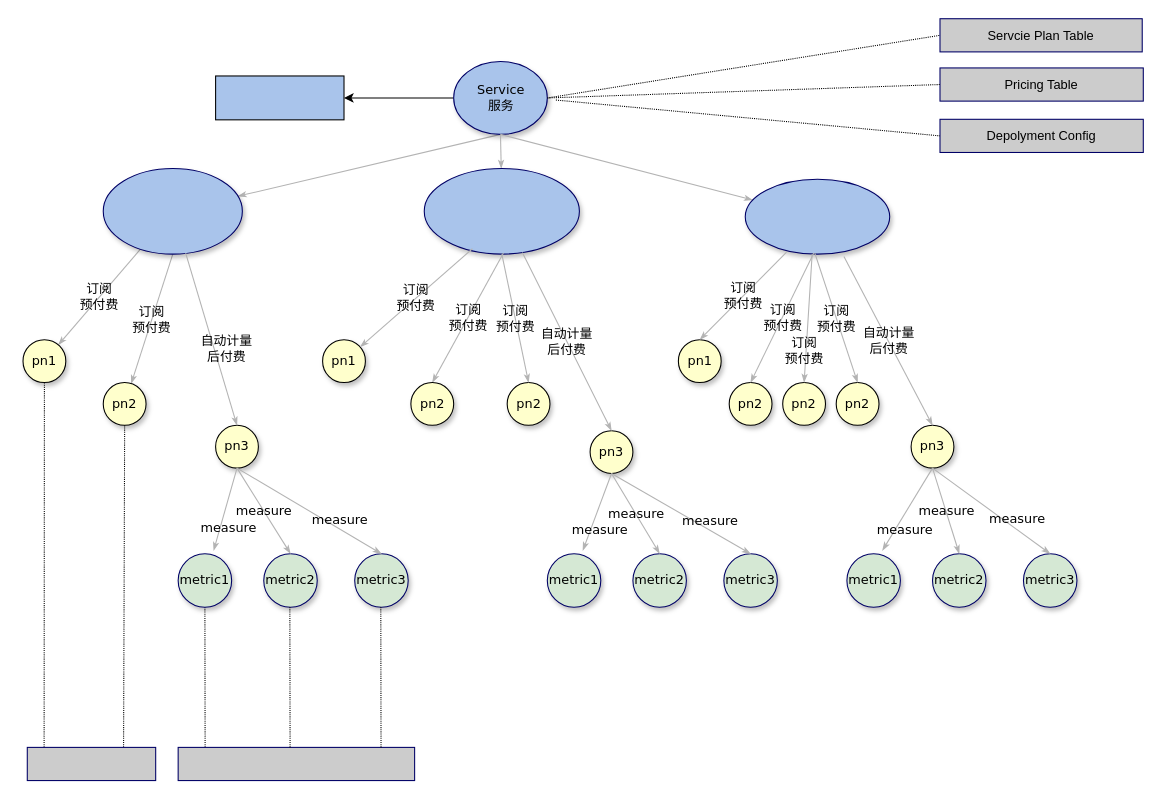
Image size: 1162x799. Some labels were removed from this diagram. The shapes that lost their labels are listed below. From the top down, each one's centre as x and y in pixels, then its label:
(279,97): ServiceCategory
(173,212): ServiceInstance1 服务实例1 with 实例规格1
(502,212): ServiceInstance2 服务实例2 with 实例规格2
(818,218): ServiceInstance3 服务实例3 with 实例规格3
(91,763): License Service
(296,763): Metering Service
